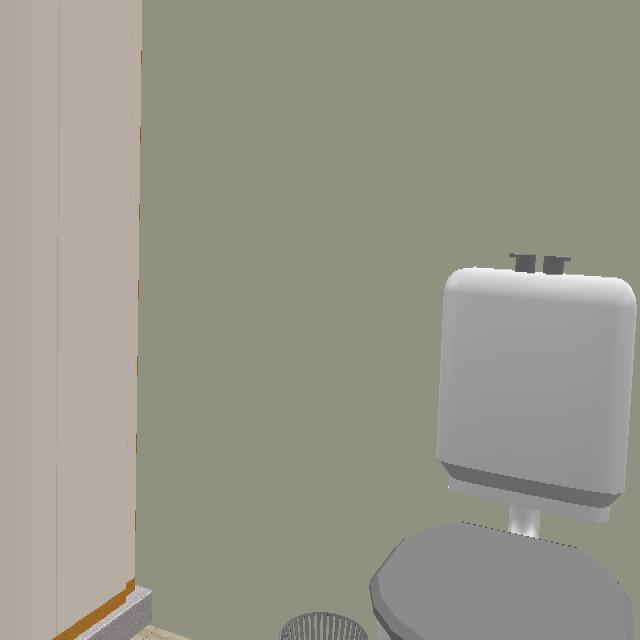toilet: (369, 253, 636, 640)
